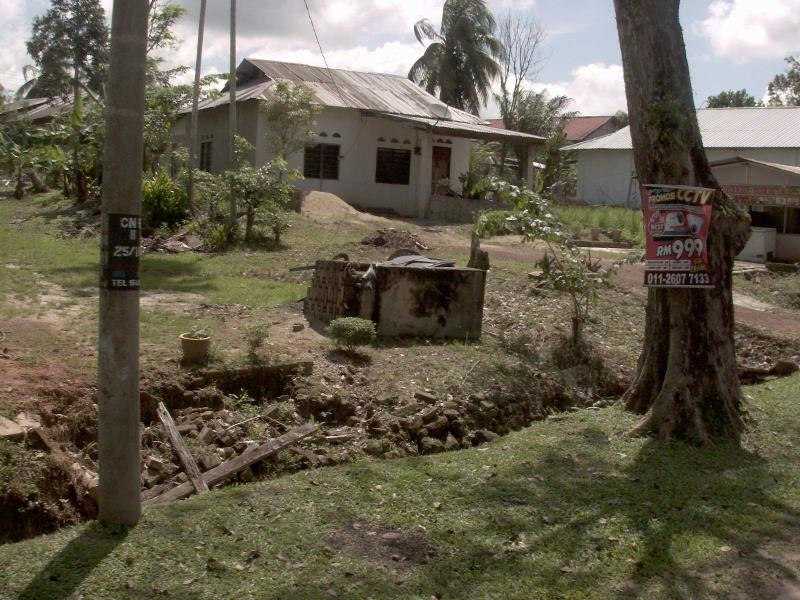ads_sign: (630, 172, 728, 300)
